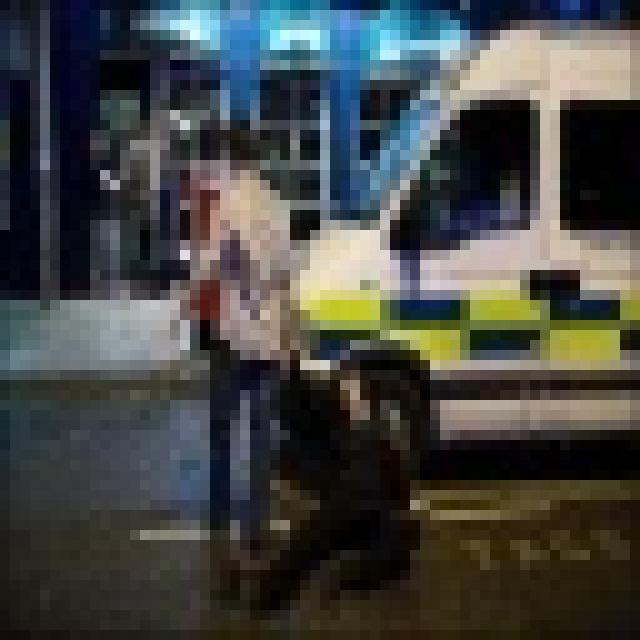Ambulance: (271, 17, 636, 466)
